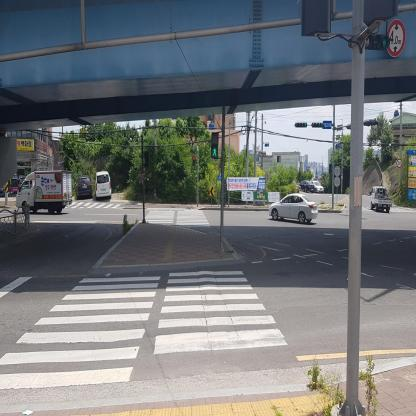Green: (211, 132, 219, 158)
